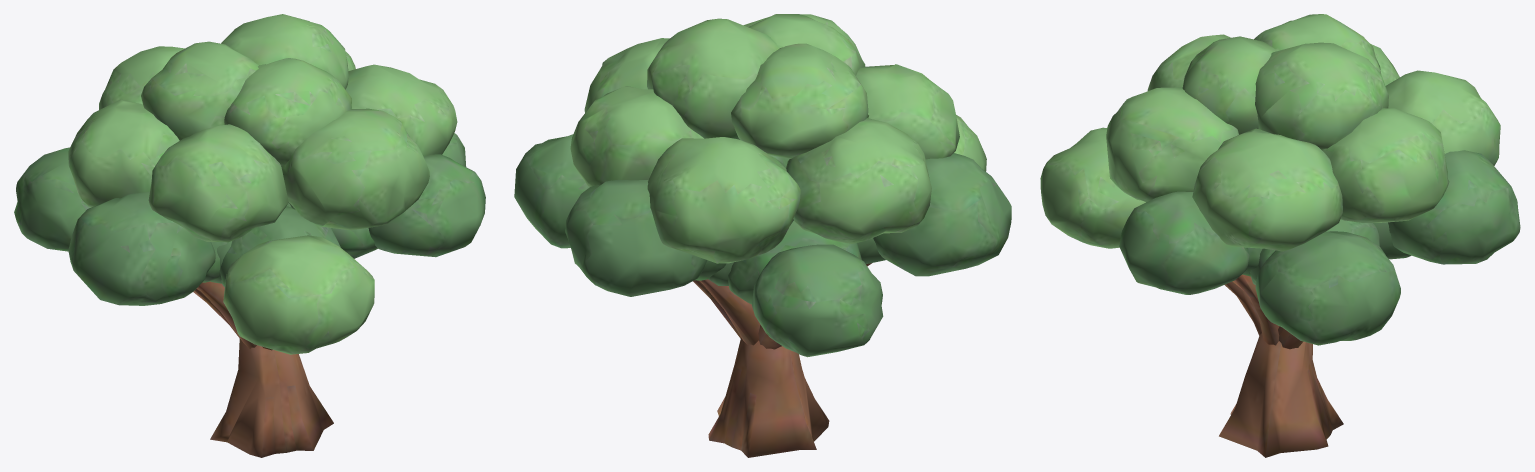
File: oak-tree.glb
3 views of the same model, side by side, from view 1: azimuth 30°, elevation 25°; view 2: azimuth 150°, elevation 25°; view 3: azimuth 270°, elevation 25° (orthographic). The views are drawn at different scales.
Parts seen in each view (by area): view 1: oak-tree_body; view 2: oak-tree_body; view 3: oak-tree_body.
Part boxes in pixels (x1,y1,x2,y2): oak-tree_body: (14,14,485,457); oak-tree_body: (514,14,1011,457); oak-tree_body: (1040,14,1520,457).
Bounding box in the file's own units: 7.63 × 6.85 × 7.52.
1 material, 1 textured.
